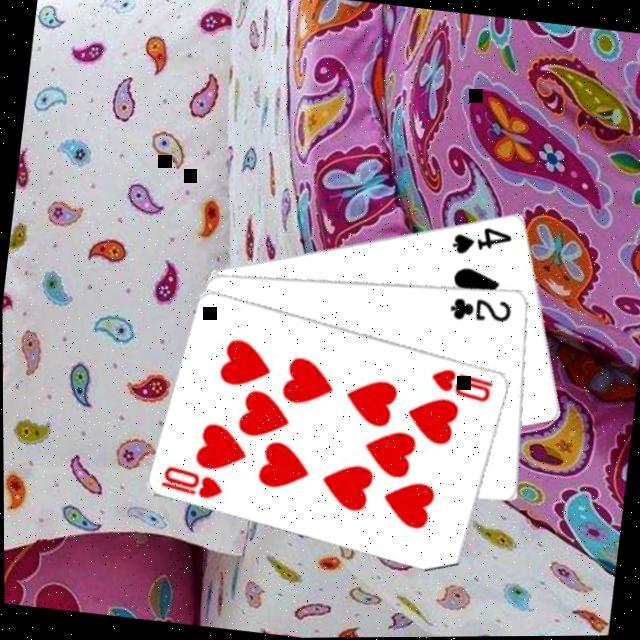10H: (155, 461, 226, 504), (424, 364, 496, 406)
2C: (445, 291, 514, 329)
4S: (446, 220, 515, 264)
